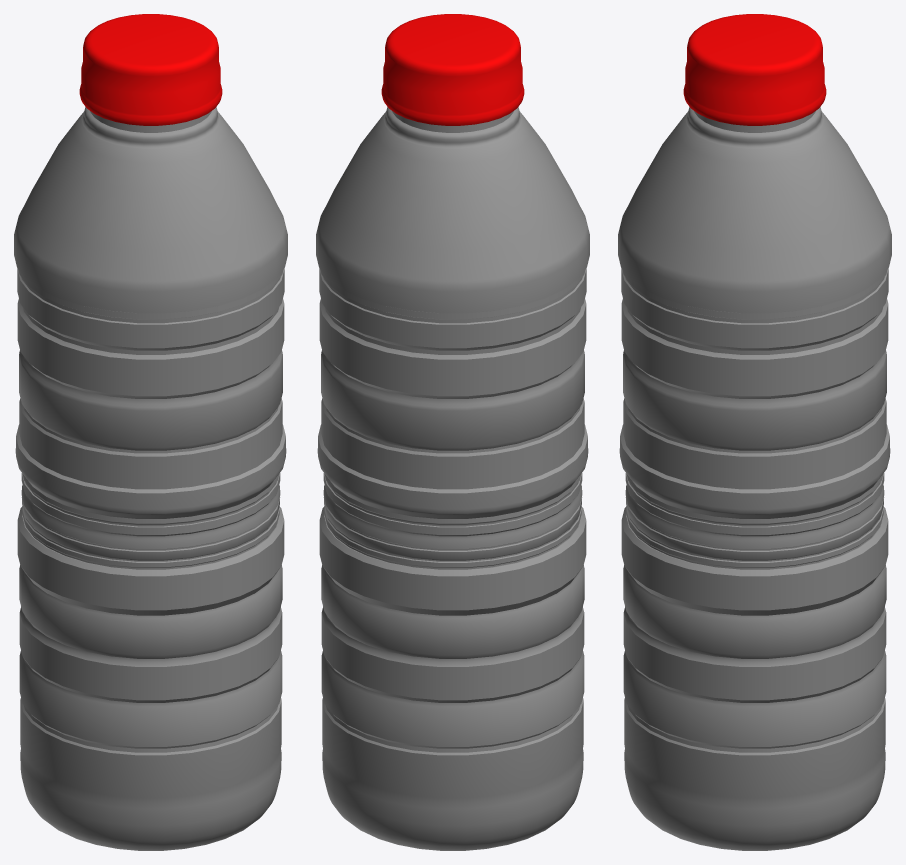
File: WaterBottle.fbx
3 views of the same model, side by side, from view 1: azimuth 30°, elevation 25°; view 2: azimuth 150°, elevation 25°; view 3: azimuth 270°, elevation 25° (orthographic).
Parts seen in each view (by area): view 1: Bouteille; view 2: Bouteille; view 3: Bouteille.
Boxes of the visible parts, x1,y1,x2,y2 form: Bouteille: (14,14,287,850); Bouteille: (316,14,589,850); Bouteille: (618,14,891,850).
Bounding box in the file's own units: 9.22 × 28.99 × 9.27.
